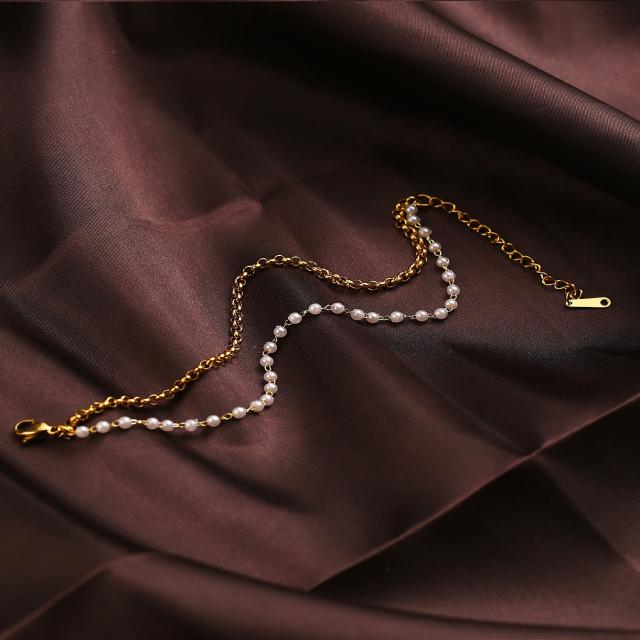bracelet: (0, 130, 640, 510)
